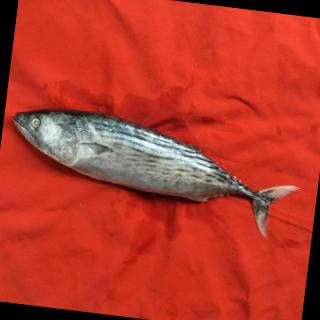Ikan: (1, 92, 299, 251)
